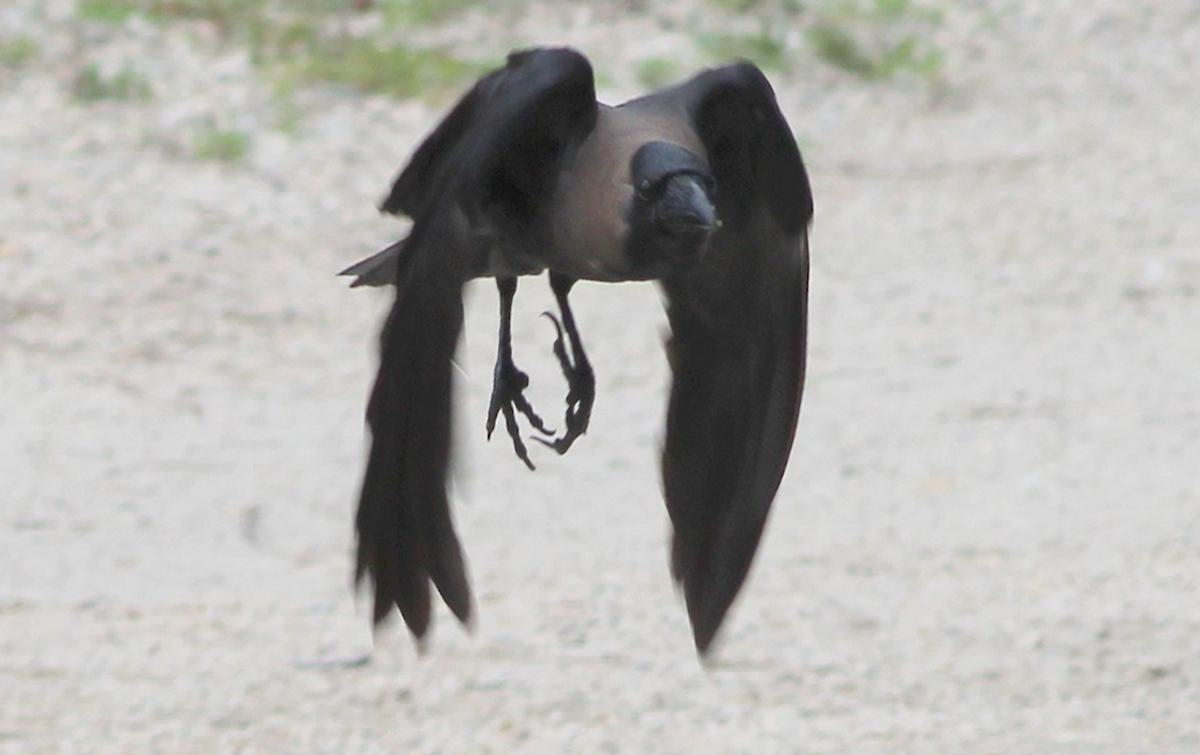crow: (280, 43, 823, 645)
